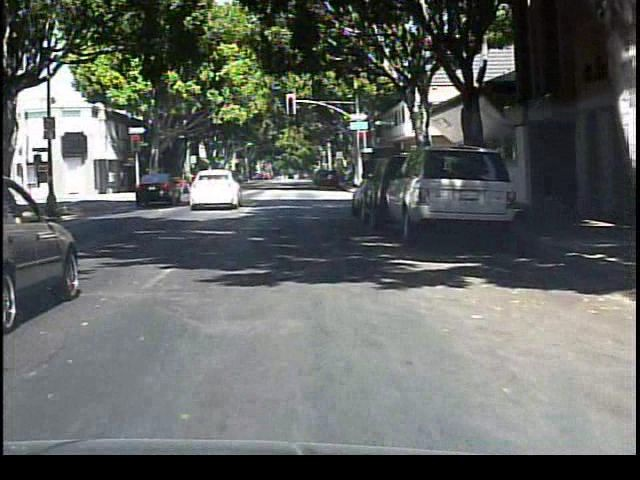person: (178, 164, 203, 203)
